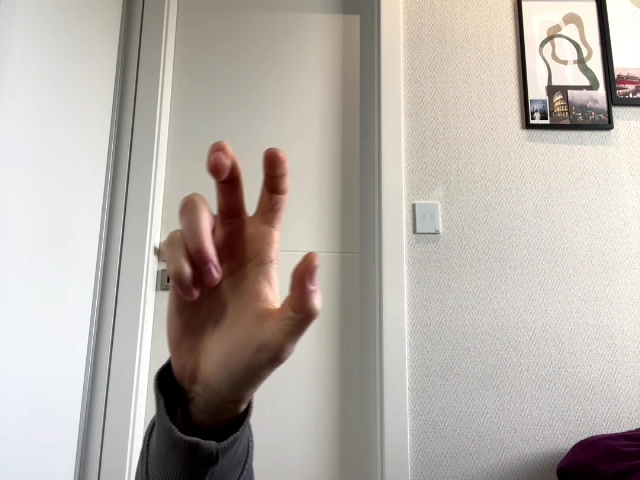CH: (165, 142, 321, 374)
